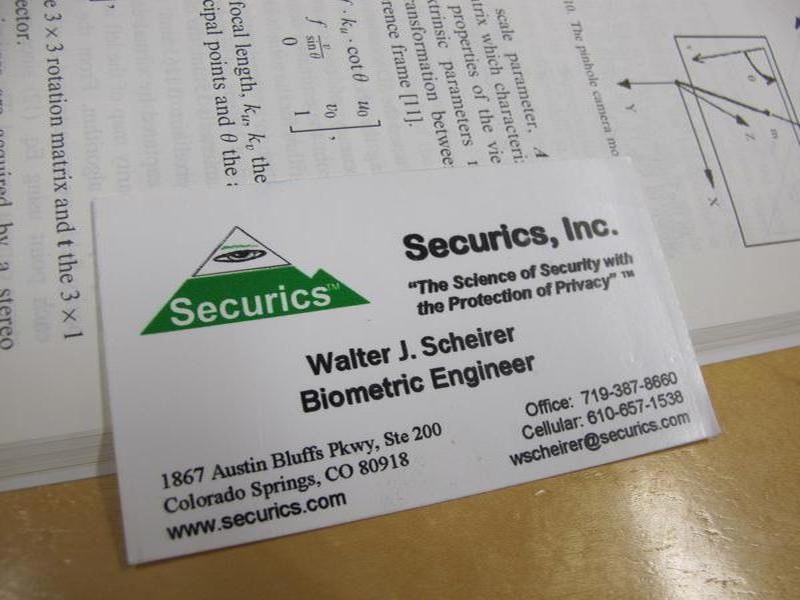card: (81, 165, 724, 559)
